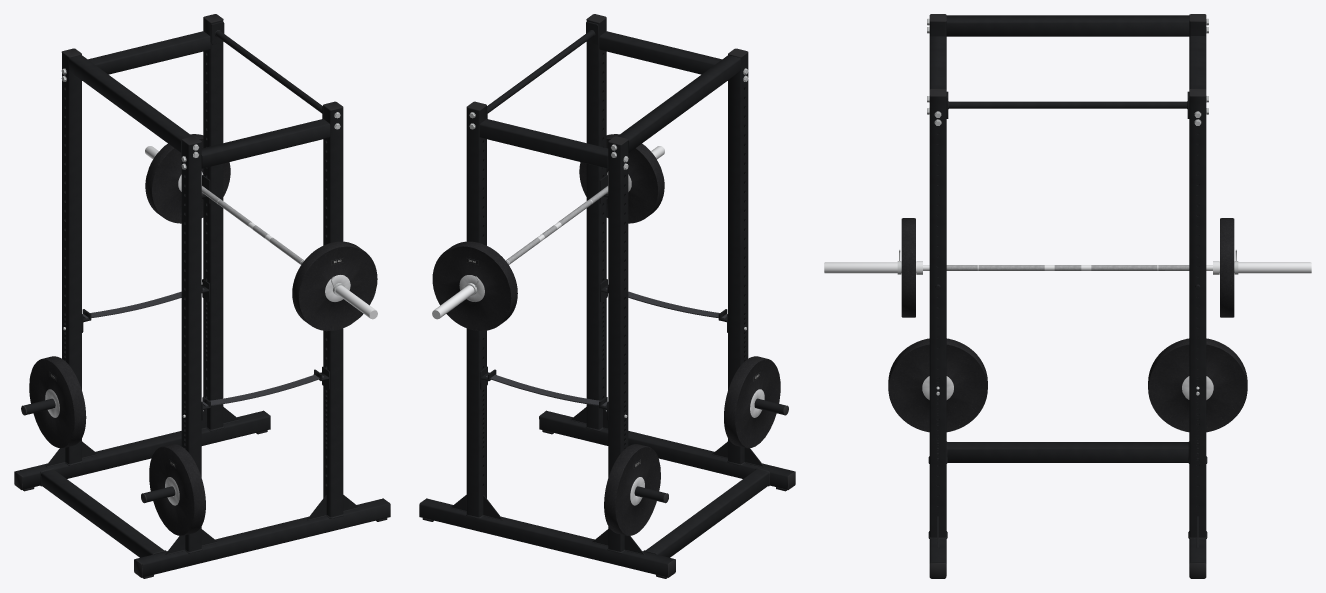
Rendered from real_power_rack.glb.
The picture shows the model from 3 angles, left to right: view 1: azimuth 30°, elevation 25°; view 2: azimuth 150°, elevation 25°; view 3: azimuth 270°, elevation 25°; orthographic projection. The views are drawn at different scales.
Visible parts, largest first — view 1: Base foot, 20 kg bumper plate, Safety strap (nylon webbing), Base foot End cap, Olympic barbell 20 kg; view 2: Base foot, 20 kg bumper plate, Safety strap (nylon webbing), Base foot End cap, Olympic barbell 20 kg; view 3: Base foot, 20 kg bumper plate, Olympic barbell 20 kg, Base foot End cap.
Part boxes in pixels (left/top/right/bottom): Base foot: left=16, top=18, right=389, bottom=577; 20 kg bumper plate: left=23, top=134, right=387, bottom=578; Safety strap (nylon webbing): left=82, top=288, right=324, bottom=406; Base foot End cap: left=14, top=14, right=390, bottom=577; Olympic barbell 20 kg: left=201, top=185, right=303, bottom=264; Base foot: left=420, top=18, right=793, bottom=577; 20 kg bumper plate: left=422, top=134, right=787, bottom=578; Safety strap (nylon webbing): left=485, top=288, right=727, bottom=406; Base foot End cap: left=419, top=14, right=795, bottom=577; Olympic barbell 20 kg: left=506, top=185, right=608, bottom=264; Base foot: left=929, top=15, right=1206, bottom=575; 20 kg bumper plate: left=824, top=218, right=1311, bottom=578; Olympic barbell 20 kg: left=946, top=265, right=1189, bottom=270; Base foot End cap: left=929, top=14, right=1206, bottom=578.
Bounding box in the file's own units: 1.41 × 2.29 × 2.2.
Materials: 11 (6 with a texture image).
